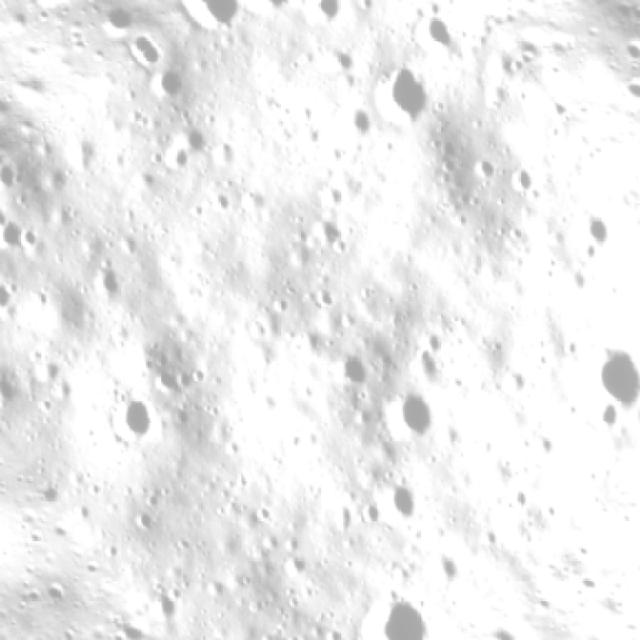crater: (551, 314, 640, 440), (357, 42, 460, 144), (92, 378, 180, 468), (338, 574, 452, 640), (143, 107, 229, 190), (371, 379, 449, 459), (0, 183, 65, 277), (554, 194, 631, 272), (399, 0, 479, 68), (318, 90, 389, 162), (372, 472, 440, 538), (326, 344, 392, 410), (188, 0, 263, 57), (140, 52, 206, 116), (0, 355, 40, 434), (0, 266, 40, 340), (230, 0, 319, 31), (144, 582, 193, 630), (184, 623, 244, 640)
